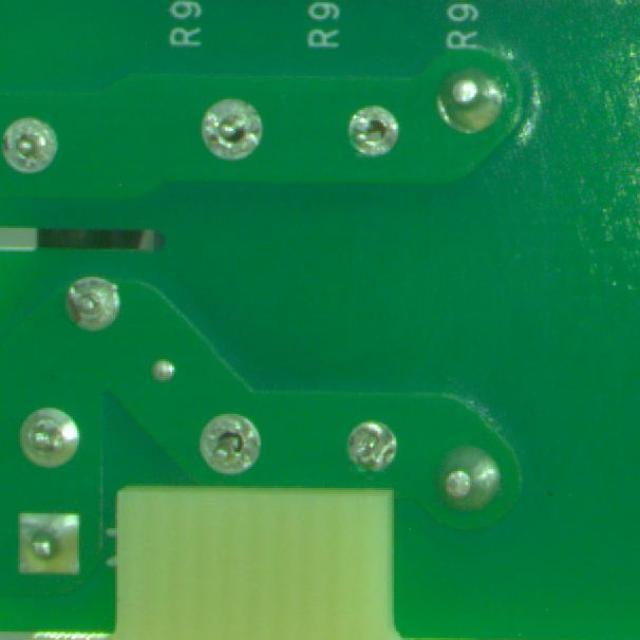Insufficient solder: (58, 268, 142, 346), (190, 408, 270, 487), (205, 90, 265, 160), (328, 102, 407, 154), (339, 410, 402, 472), (0, 113, 58, 173)
